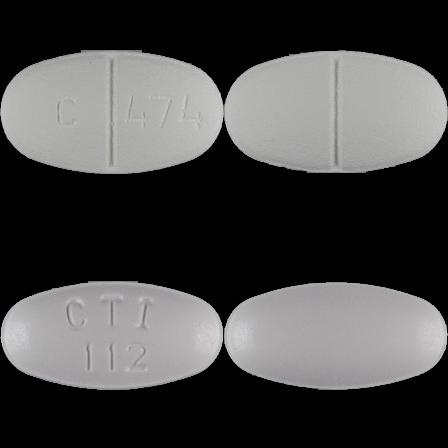68788-0474: (0, 0, 224, 224)
